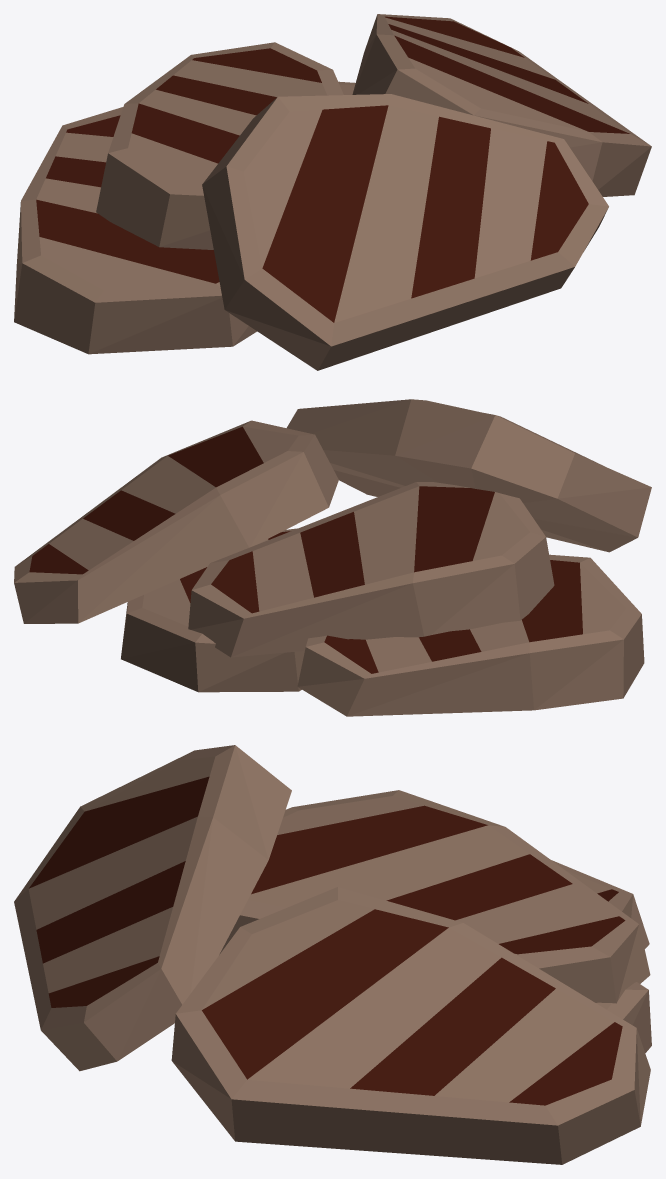
File: CookedMeat.fbx
3 renders of one model, top to bottom at view 1: azimuth 30°, elevation 25°; view 2: azimuth 150°, elevation 25°; view 3: azimuth 270°, elevation 25°, orthographic. The views are drawn at different scales.
Visible parts, largest first — view 1: Icosphere.000, Icosphere.004; view 2: Icosphere.000, Icosphere.004; view 3: Icosphere.000, Icosphere.004.
Part boxes in pixels (<box>): Icosphere.000: <box>14,14,651,370</box>; Icosphere.004: <box>36,16,629,322</box>; Icosphere.000: <box>14,399,651,716</box>; Icosphere.004: <box>29,426,582,673</box>; Icosphere.000: <box>14,745,651,1164</box>; Icosphere.004: <box>29,776,625,1105</box>.
Bounding box in the file's own units: 0.559 × 0.2019 × 0.4743.
